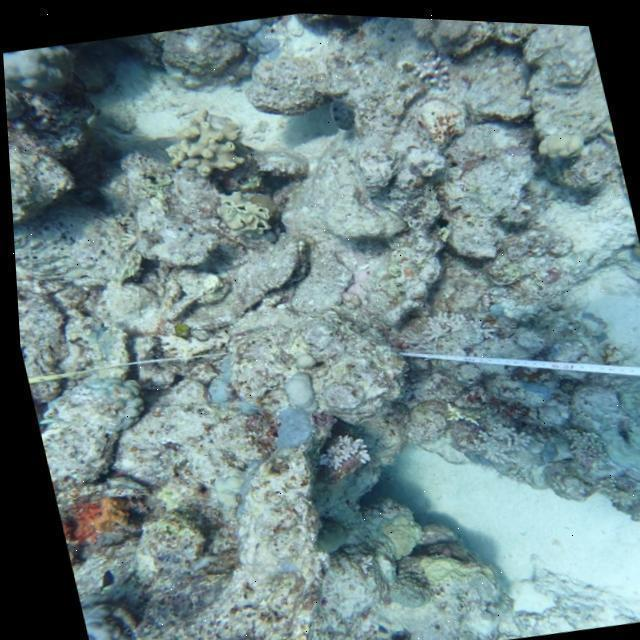Bleached Coral: (325, 433, 380, 483)
